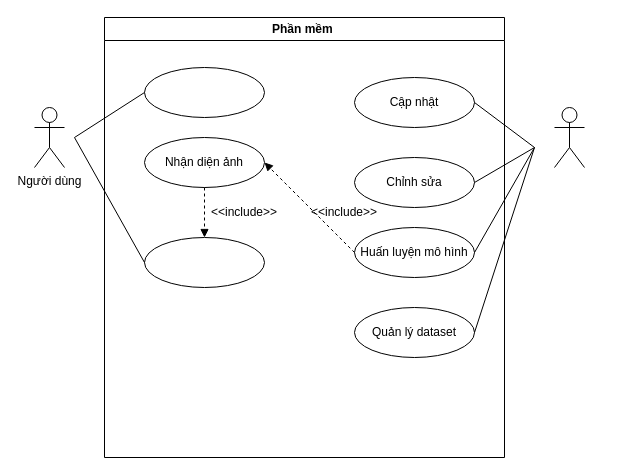
This 620x475 diagram has some shape labels left out. The centre of each missing label's shape, as x and y in pixels:
Chọn hình ảnh: (x=204, y=92)
Kết quả nhận diện: (x=204, y=262)
Quản trị viên: (x=569, y=137)
